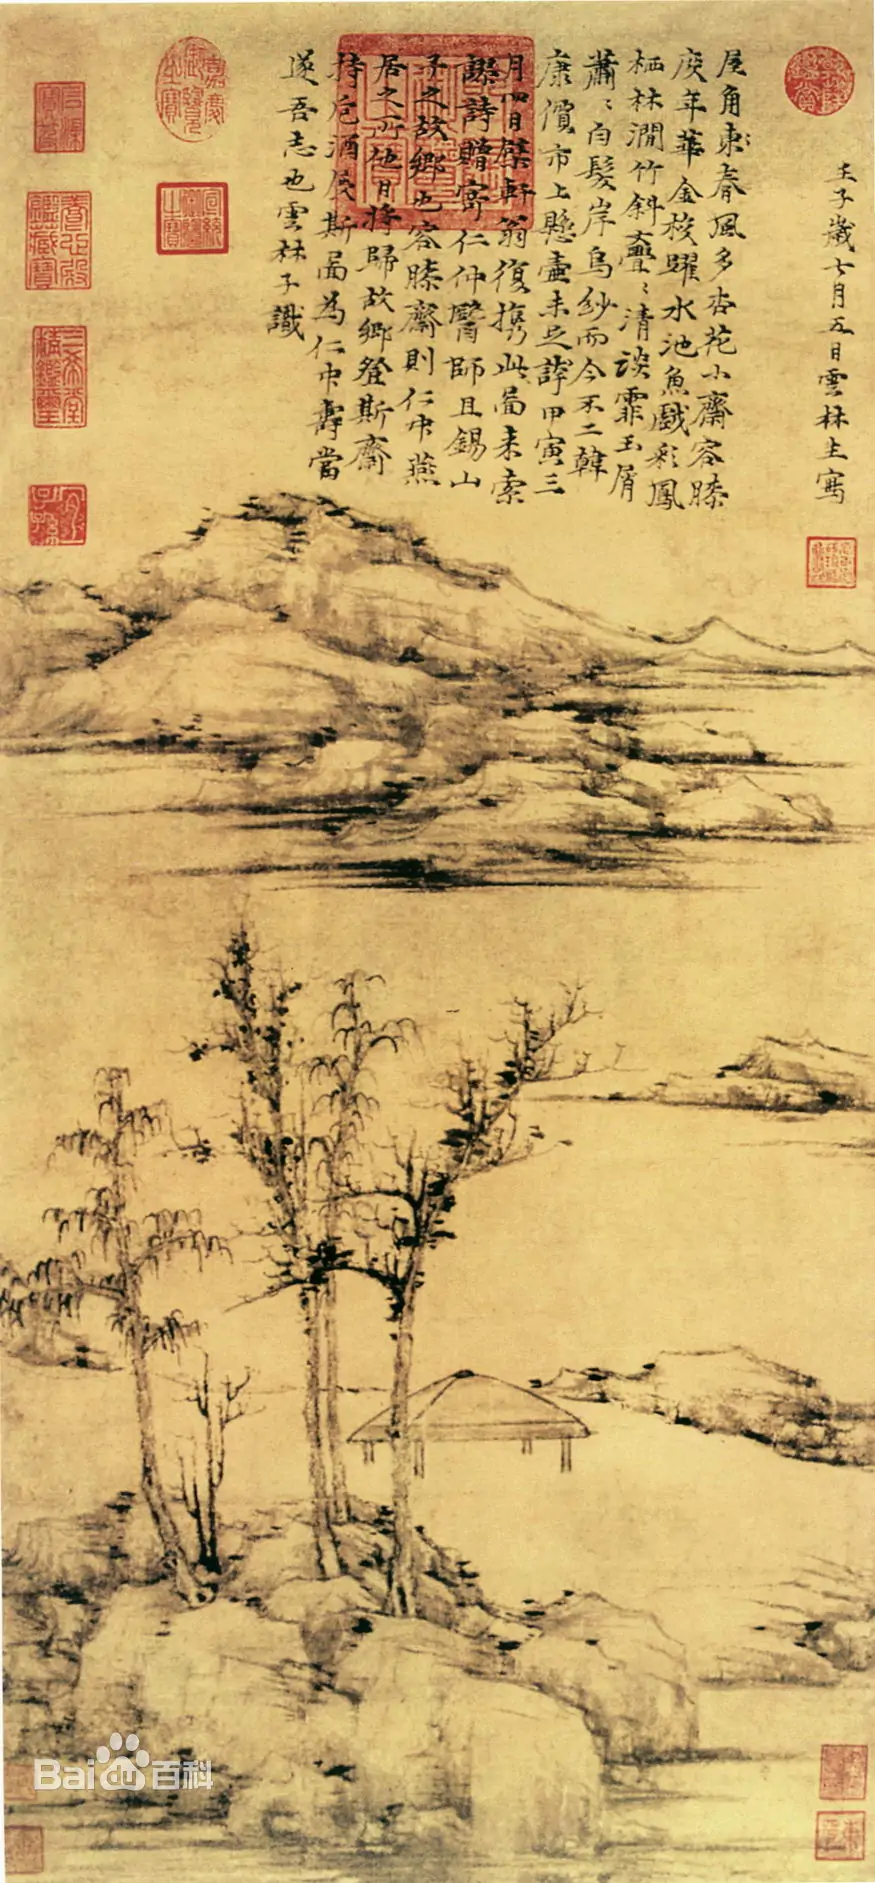booth: (356, 1351, 592, 1488)
hill: (23, 492, 867, 892)
rock: (26, 1504, 693, 1883)
tree: (340, 984, 629, 1612), (190, 907, 374, 1592), (29, 1050, 238, 1631)
